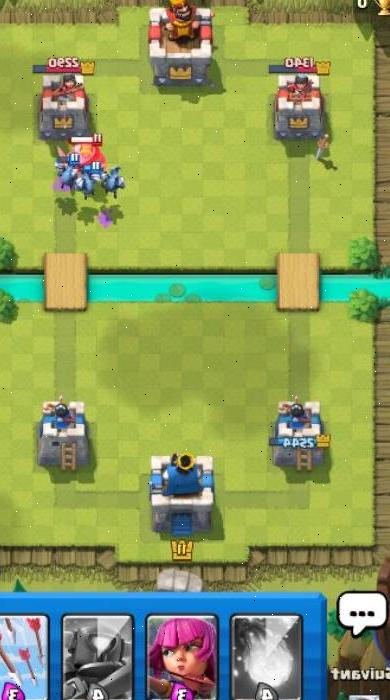enemy_knight: (52, 135, 111, 165)
player_minions: (53, 150, 82, 188), (100, 162, 129, 195), (76, 163, 100, 196)
